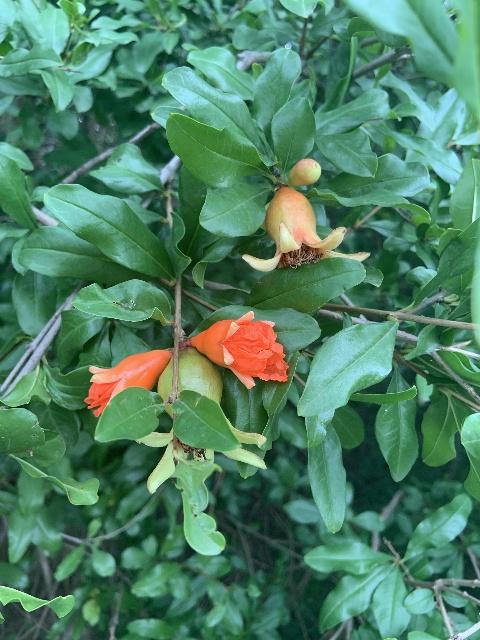bud: (287, 158, 321, 186)
early-fruit: (137, 348, 269, 497), (242, 186, 370, 271)
flower: (189, 310, 289, 387), (84, 348, 171, 417)
